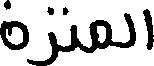X: (0, 0, 28, 65), (30, 2, 57, 65), (91, 15, 111, 57), (143, 4, 153, 54), (124, 8, 135, 52), (72, 20, 76, 55)
